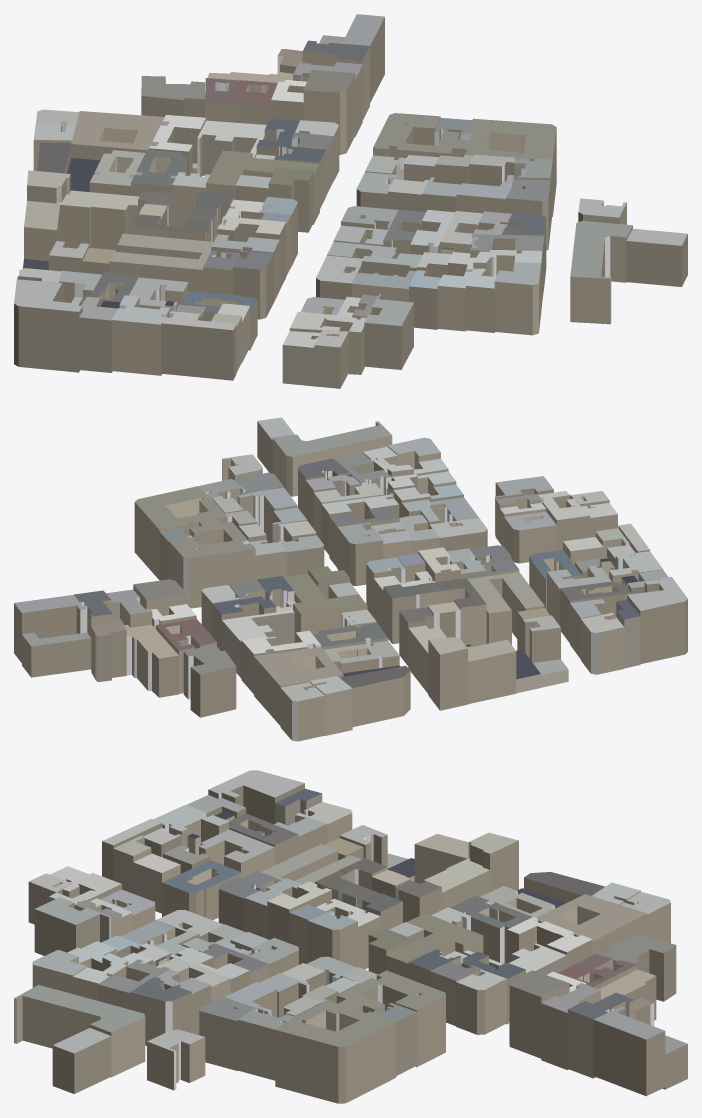
The picture shows the model from 3 angles, top to bottom: view 1: azimuth 30°, elevation 25°; view 2: azimuth 150°, elevation 25°; view 3: azimuth 270°, elevation 25°; orthographic projection. The views are drawn at different scales.
Visible parts, largest first — view 1: tuile; view 2: tuile; view 3: tuile.
Part boxes in pixels (bbox=[...]): tuile: bbox=[14, 14, 687, 388]; tuile: bbox=[14, 417, 687, 741]; tuile: bbox=[14, 770, 687, 1103].
Size of the model in its own units: 266 by 30.62 by 269.
